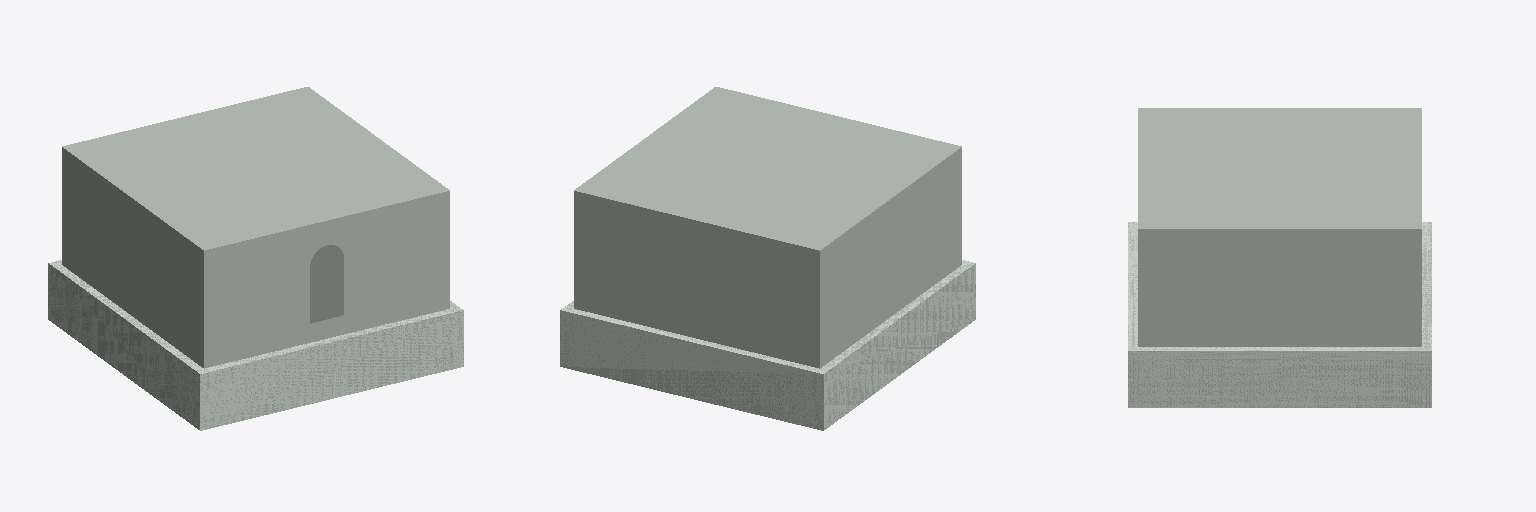
The model's file is tile_010.obj.
3 renders of one model, left to right at view 1: azimuth 30°, elevation 25°; view 2: azimuth 150°, elevation 25°; view 3: azimuth 270°, elevation 25°, orthographic.
Visible parts, largest first — view 1: tile_010; view 2: tile_010; view 3: tile_010.
Part boxes in pixels (left/top/right/bottom): tile_010: left=48, top=87, right=463, bottom=430; tile_010: left=560, top=87, right=975, bottom=430; tile_010: left=1128, top=108, right=1431, bottom=407.
Bounding box in the file's own units: 0.6301 × 0.4 × 0.6301.